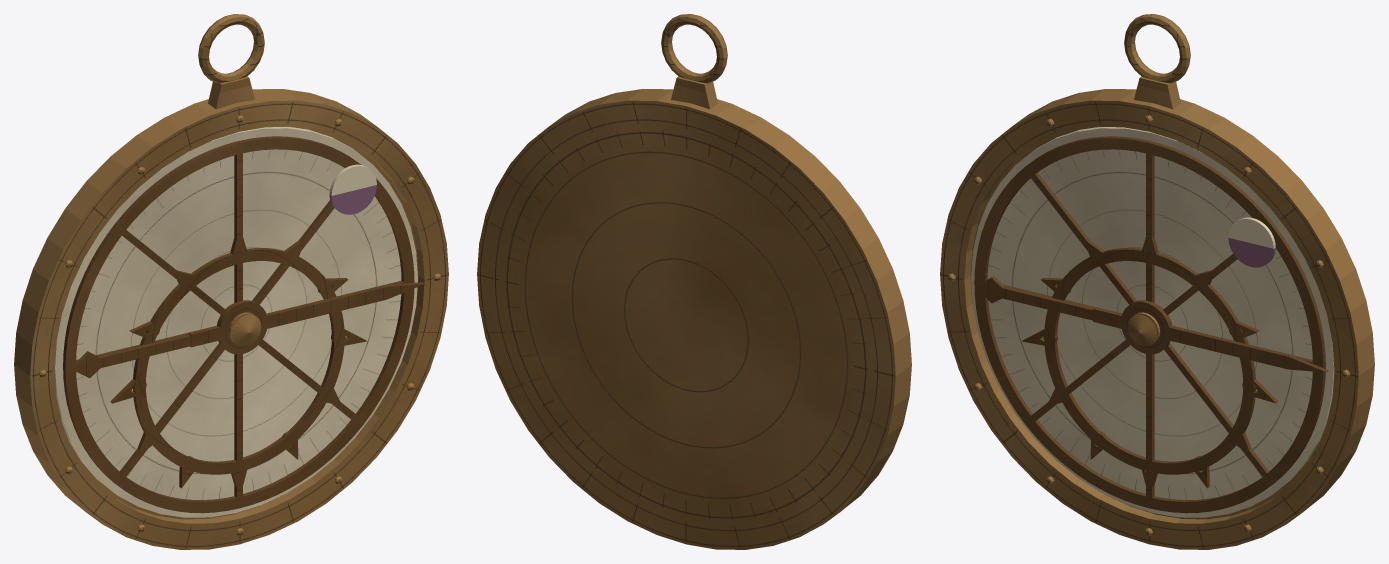
Rendered from astrolabe-lite-v1.glb.
3 views of the same model, side by side, from view 1: azimuth 30°, elevation 25°; view 2: azimuth 150°, elevation 25°; view 3: azimuth 330°, elevation 25° (orthographic).
Parts seen in each view (by area): view 1: calendar_disc, outer_rim, rete, body, time_pointer, suspension_ring, moon_disc_geom, moon_disc_dark, center_cap_geom; view 2: body, outer_rim, suspension_ring; view 3: calendar_disc, outer_rim, rete, body, time_pointer, suspension_ring, moon_disc_geom, moon_disc_dark, center_cap_geom.
Part boxes in pixels (x1,y1,x2,y2): calendar_disc: [54, 127, 417, 517]; outer_rim: [24, 96, 448, 549]; rete: [63, 136, 414, 513]; body: [14, 89, 418, 519]; time_pointer: [70, 282, 424, 378]; suspension_ring: [198, 14, 264, 109]; moon_disc_geom: [329, 164, 376, 195]; moon_disc_dark: [329, 185, 376, 214]; center_cap_geom: [228, 312, 261, 346]; body: [477, 93, 905, 549]; outer_rim: [561, 89, 911, 514]; suspension_ring: [661, 14, 727, 109]; calendar_disc: [971, 127, 1334, 517]; outer_rim: [940, 96, 1364, 549]; rete: [974, 136, 1325, 513]; body: [970, 89, 1374, 519]; time_pointer: [974, 276, 1328, 372]; suspension_ring: [1124, 14, 1190, 109]; moon_disc_geom: [1228, 217, 1275, 248]; moon_disc_dark: [1228, 238, 1275, 267]; center_cap_geom: [1127, 312, 1160, 346].
Size of the model in its own units: 0.24 by 0.2866 by 0.026.
Materials: 4 (3 with a texture image).
